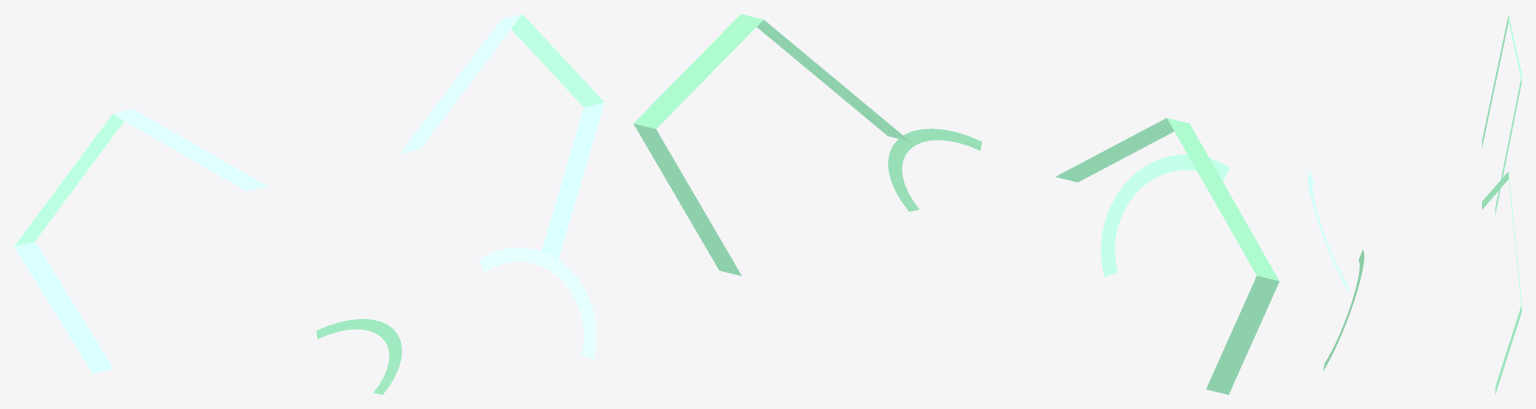
File: KAIA_AWAKENED_BUILD.glb
3 renders of one model, left to right at view 1: azimuth 30°, elevation 25°; view 2: azimuth 150°, elevation 25°; view 3: azimuth 270°, elevation 25°, orthographic. The views are drawn at different scales.
Visible parts, largest first — view 1: ANI08C_kaia-windrow_1_pressure_airfoil_L0, ANI08C_kaia-windrow_1_pressure_airfoil_R0, ANI08C_kaia-windrow_1_pressure_crescent_R, ANI08C_kaia-windrow_1_pressure_crescent_L; view 2: ANI08C_kaia-windrow_1_pressure_airfoil_R0, ANI08C_kaia-windrow_1_pressure_airfoil_L0, ANI08C_kaia-windrow_1_pressure_crescent_L, ANI08C_kaia-windrow_1_pressure_crescent_R; view 3: ANI08C_kaia-windrow_1_pressure_airfoil_L0, ANI08C_kaia-windrow_1_pressure_airfoil_R0, ANI08C_kaia-windrow_1_pressure_crescent_R, ANI08C_kaia-windrow_1_pressure_crescent_L.
Boxes of the visible parts, <box> form: ANI08C_kaia-windrow_1_pressure_airfoil_L0: <box>14,109,266,373</box>; ANI08C_kaia-windrow_1_pressure_airfoil_R0: <box>400,14,604,259</box>; ANI08C_kaia-windrow_1_pressure_crescent_R: <box>478,247,596,359</box>; ANI08C_kaia-windrow_1_pressure_crescent_L: <box>316,319,401,394</box>; ANI08C_kaia-windrow_1_pressure_airfoil_R0: <box>633,14,909,275</box>; ANI08C_kaia-windrow_1_pressure_airfoil_L0: <box>1055,118,1279,394</box>; ANI08C_kaia-windrow_1_pressure_crescent_L: <box>1101,154,1229,276</box>; ANI08C_kaia-windrow_1_pressure_crescent_R: <box>888,128,981,211</box>; ANI08C_kaia-windrow_1_pressure_airfoil_L0: <box>1482,14,1521,214</box>; ANI08C_kaia-windrow_1_pressure_airfoil_R0: <box>1482,171,1521,394</box>; ANI08C_kaia-windrow_1_pressure_crescent_R: <box>1323,249,1364,370</box>; ANI08C_kaia-windrow_1_pressure_crescent_L: <box>1308,171,1349,292</box>.
Size of the model in its own units: 0.85 by 0.3481 by 0.3224.
